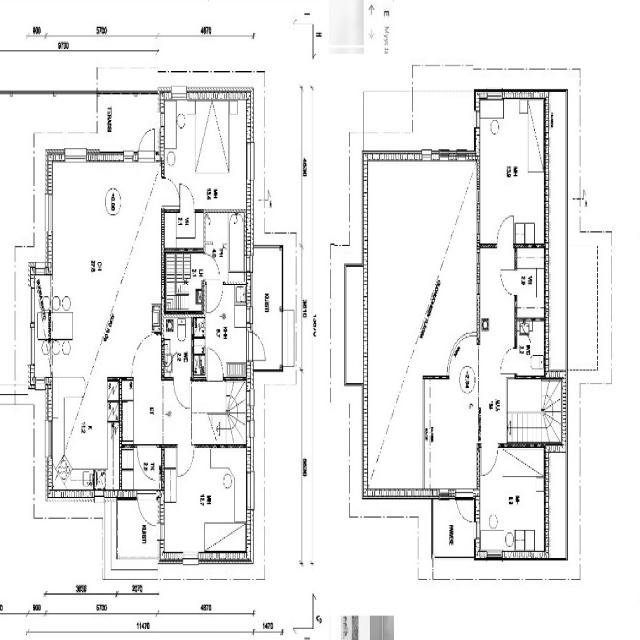door: (511, 242, 546, 317), (131, 332, 162, 378), (134, 442, 161, 483), (493, 210, 518, 251), (478, 440, 501, 480), (135, 489, 158, 526), (172, 373, 192, 413), (496, 261, 518, 297), (205, 278, 225, 316), (175, 441, 195, 479), (204, 344, 224, 382), (453, 493, 476, 526), (136, 123, 156, 160), (176, 176, 197, 211), (497, 343, 518, 377), (249, 328, 268, 364), (202, 248, 222, 282), (161, 174, 180, 208)
window: (168, 548, 203, 573), (62, 139, 90, 164), (94, 491, 113, 503), (475, 550, 490, 562)
zone: (47, 162, 156, 365), (161, 442, 252, 562), (159, 95, 253, 209), (477, 93, 546, 244), (478, 444, 548, 558), (422, 375, 478, 493), (164, 193, 224, 251), (340, 264, 366, 388), (432, 494, 476, 560), (163, 248, 203, 312), (514, 242, 546, 317), (96, 404, 121, 497), (161, 312, 193, 378), (514, 314, 546, 376), (29, 274, 52, 346), (162, 207, 199, 246), (199, 211, 231, 250), (31, 336, 52, 385)
